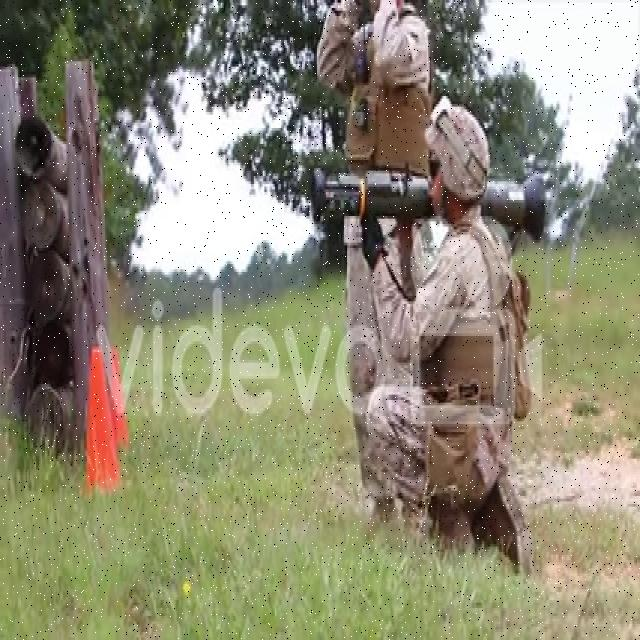bazooka: (308, 164, 548, 253)
